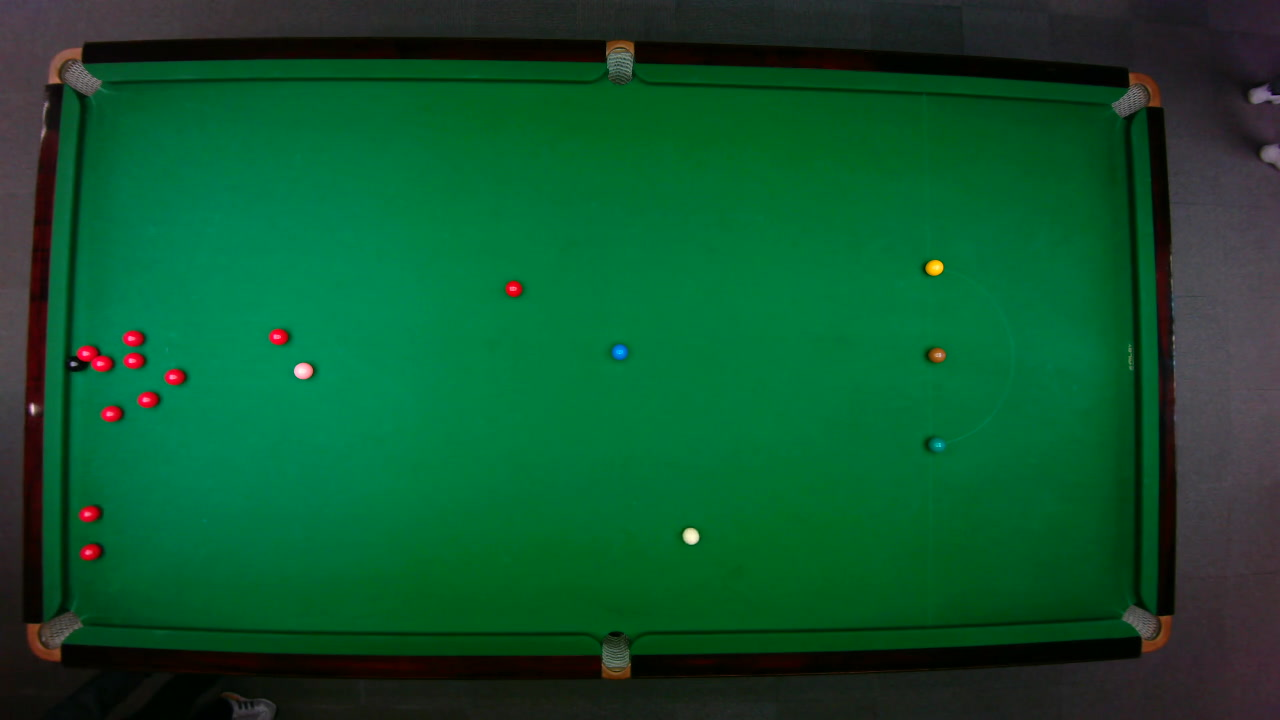bag: (25, 609, 84, 662), (45, 46, 102, 96), (1119, 603, 1171, 652), (1108, 71, 1162, 118), (600, 629, 629, 680), (605, 38, 633, 85)
black: (65, 356, 83, 370)
blue: (609, 343, 628, 360)
brown: (926, 346, 946, 362)
green: (926, 435, 946, 452)
pink: (291, 360, 314, 380)
red: (77, 542, 102, 561), (135, 389, 159, 408), (74, 344, 99, 362), (99, 404, 122, 422), (77, 504, 100, 522), (121, 328, 144, 346), (163, 367, 186, 385), (89, 354, 113, 371), (267, 327, 289, 345), (122, 351, 145, 368), (503, 279, 523, 297)
white: (680, 526, 700, 544)
yellow: (923, 258, 944, 276)
zone: (926, 266, 1013, 444)
